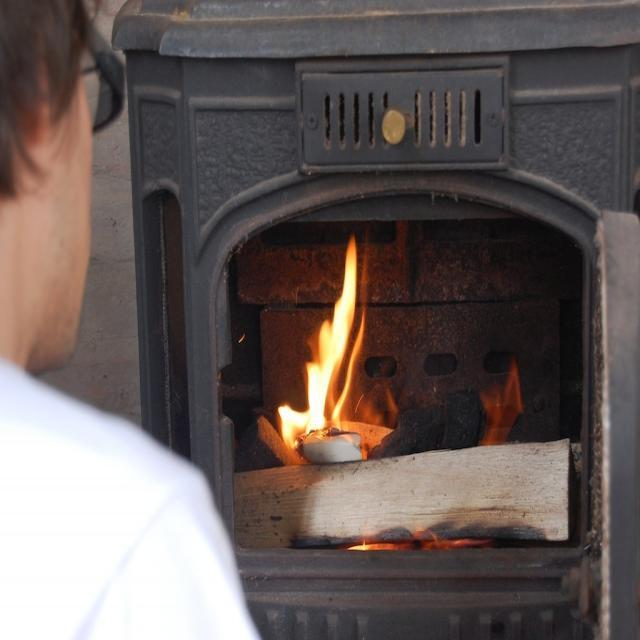Fire: (277, 226, 398, 464)
